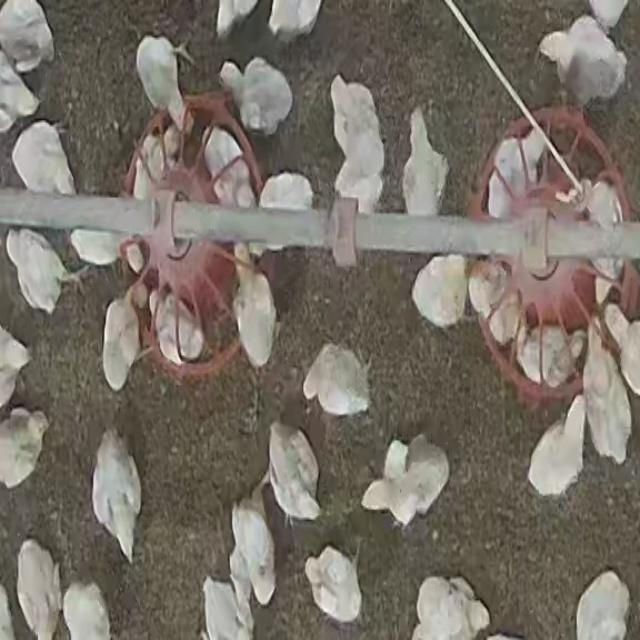chicken: (359, 432, 447, 528), (540, 15, 628, 107), (328, 76, 386, 213), (581, 321, 631, 463), (92, 428, 142, 564), (392, 109, 452, 218), (4, 228, 73, 316), (134, 33, 194, 133), (526, 399, 586, 497), (230, 248, 278, 370), (219, 56, 292, 136), (298, 342, 378, 414), (486, 128, 550, 217), (267, 421, 320, 522), (409, 574, 492, 638), (230, 498, 275, 610), (303, 546, 365, 626), (10, 120, 74, 197), (152, 283, 209, 369), (408, 252, 468, 329), (200, 128, 254, 212), (16, 540, 61, 637), (256, 171, 313, 247), (100, 294, 142, 395), (0, 0, 55, 73), (0, 409, 49, 490), (574, 572, 628, 639), (520, 326, 575, 388), (0, 48, 40, 132)
